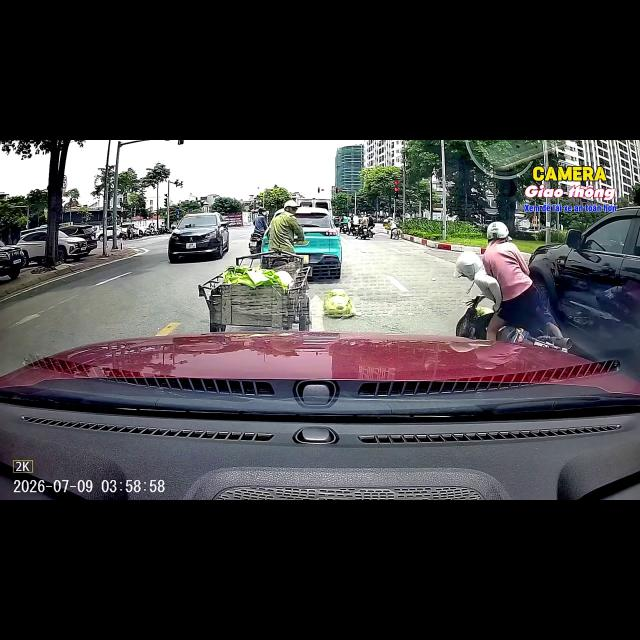car: (0, 332, 639, 499), (529, 207, 639, 369), (294, 207, 342, 280), (168, 212, 229, 262), (60, 224, 97, 253), (16, 231, 46, 264), (0, 241, 25, 279), (121, 223, 144, 236), (106, 226, 113, 239)
motorcycle: (497, 326, 572, 352), (249, 233, 263, 253), (356, 227, 369, 239), (391, 228, 402, 240), (349, 224, 358, 236), (144, 228, 156, 236), (340, 223, 348, 233), (368, 226, 374, 238)
